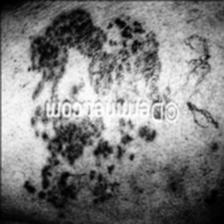Non-Cancerous Skin Condition: (28, 7, 168, 100), (22, 123, 156, 207), (179, 34, 217, 131)
